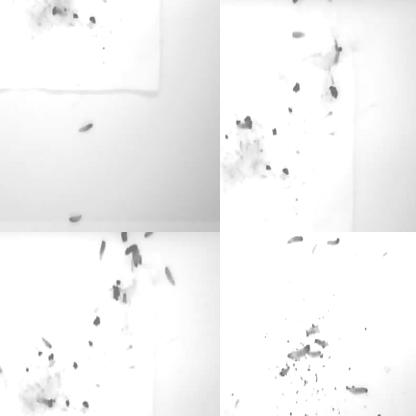PtecticusTenebrifer: (286, 344, 310, 361), (164, 266, 176, 288), (76, 122, 94, 133), (286, 234, 304, 245), (348, 386, 368, 395), (40, 336, 52, 348), (70, 213, 84, 223), (100, 240, 106, 263), (328, 236, 340, 246), (122, 232, 135, 241), (80, 0, 90, 10), (109, 232, 121, 240), (145, 232, 157, 239), (0, 375, 5, 391), (0, 345, 5, 361), (0, 6, 6, 18), (0, 212, 7, 222), (0, 31, 3, 53), (0, 0, 5, 9), (0, 0, 10, 4)
